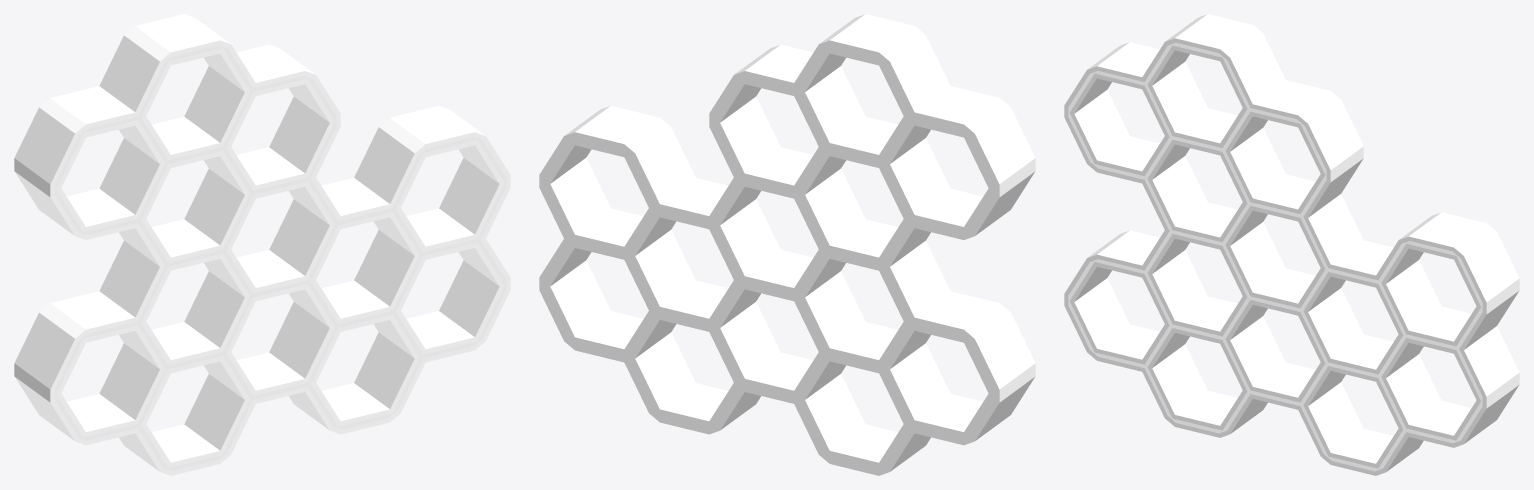
File: Shelf1.glb
3 renders of one model, left to right at view 1: azimuth 30°, elevation 25°; view 2: azimuth 150°, elevation 25°; view 3: azimuth 330°, elevation 25°, orthographic. The views are drawn at different scales.
Visible parts, largest first — view 1: ShelfEmpty; view 2: ShelfEmpty; view 3: ShelfEmpty.
Boxes of the visible parts, x1,y1,x2,y2 form: ShelfEmpty: (14,14,510,475); ShelfEmpty: (539,14,1035,475); ShelfEmpty: (1064,14,1519,475).
Size of what is drawn, in the model's own units: 3.66 by 3.22 by 0.4964.
2 materials, 2 textured.
